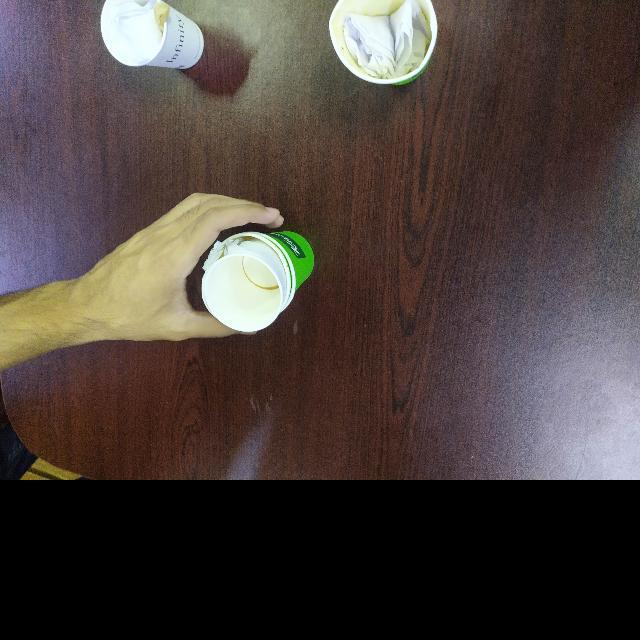kitchen paper: (340, 0, 421, 78)
